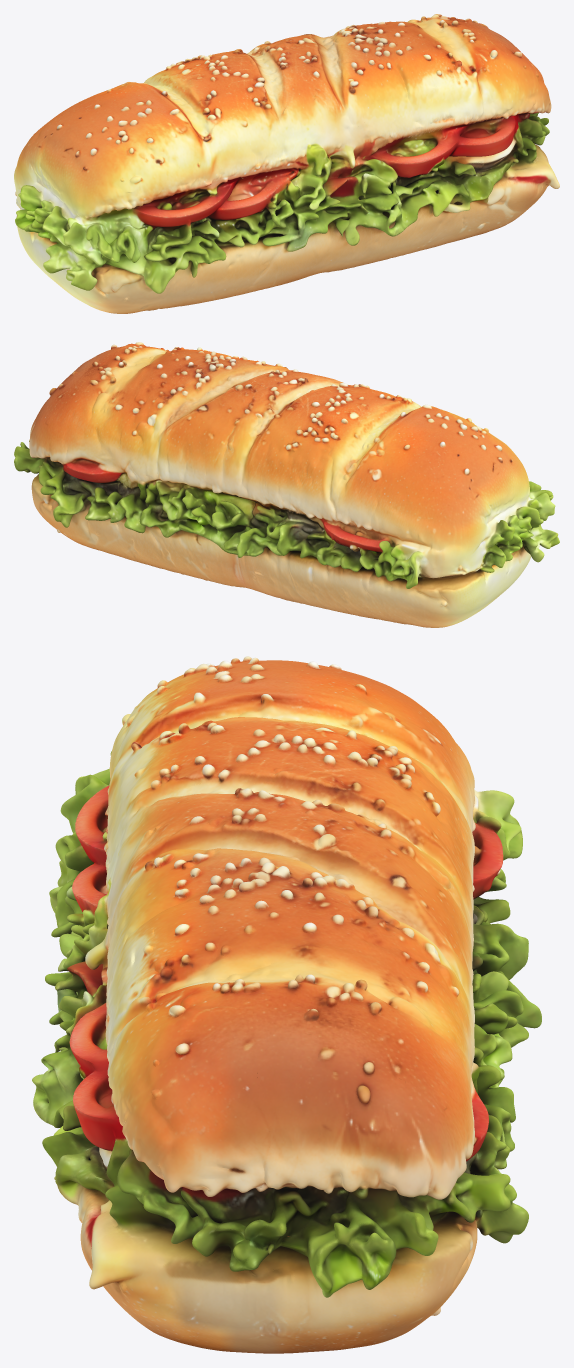
File: sandwich.glb
3 renders of one model, top to bottom at view 1: azimuth 30°, elevation 25°; view 2: azimuth 150°, elevation 25°; view 3: azimuth 270°, elevation 25°, orthographic. The views are drawn at different scales.
Visible parts, largest first — view 1: model; view 2: model; view 3: model.
Boxes of the visible parts, x1=… form: model: x1=14, y1=14, x2=559, y2=313; model: x1=14, y1=342, x2=559, y2=627; model: x1=32, y1=656, x2=541, y2=1353.
Size of the model in its own units: 1.89 by 0.7089 by 0.8572.
Materials: 1 (1 with a texture image).
